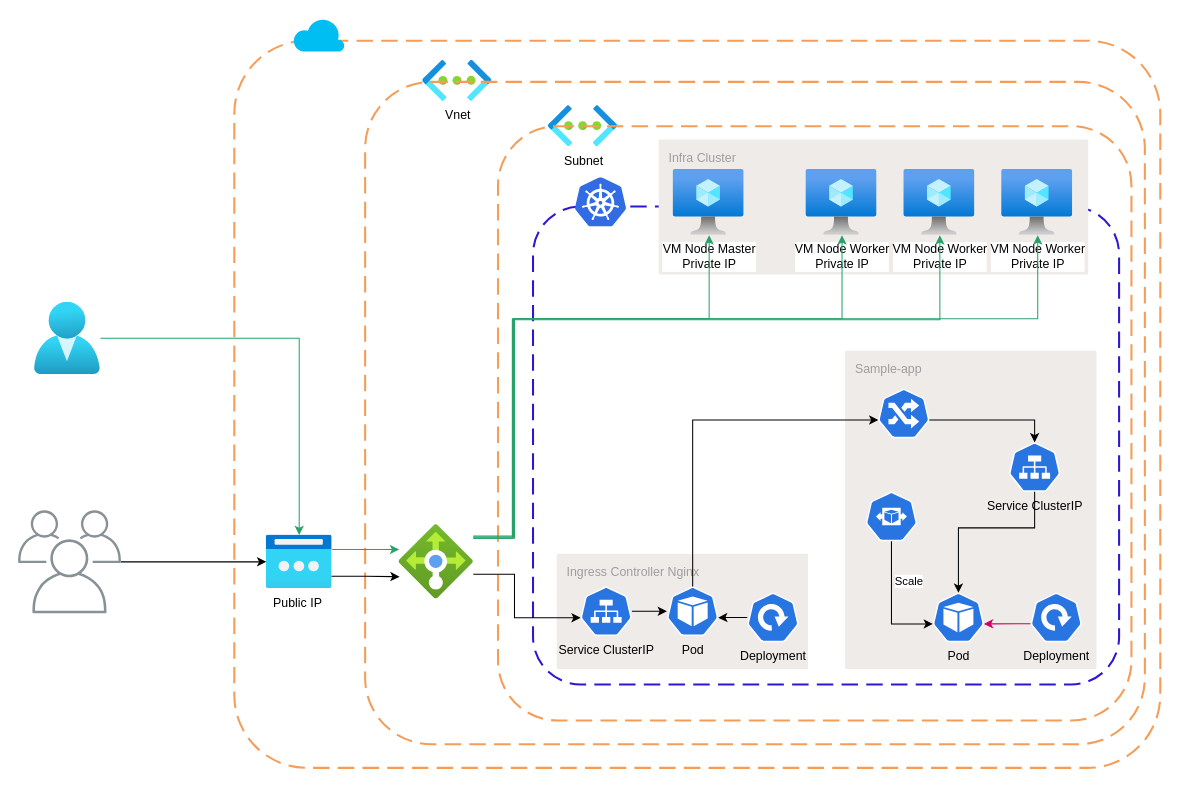
This 1178x786 diagram has some shape labels left out. Here are the shapes that lost their labels. From the top down, the centre of each, then its label:
At [318,34]: "Azure Cloud".
At [600,202]: "Kubernetes Cluster".
At [67,338]: "Admin".
At [903,413]: "Ingress : Nginx path : /".
At [891,516]: "HPA".
At [69,561]: "users".
At [436,561]: "Load Balancer".
